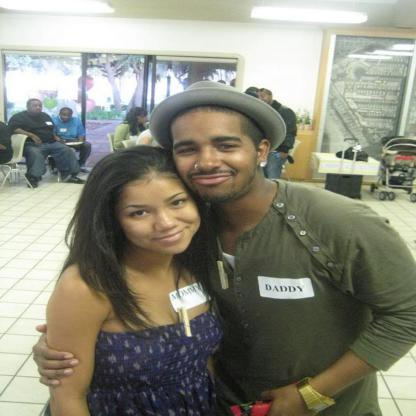face: (173, 121, 259, 199), (119, 186, 200, 255), (30, 103, 43, 114), (256, 95, 270, 105), (62, 113, 72, 122), (140, 115, 149, 125), (347, 140, 356, 149)
